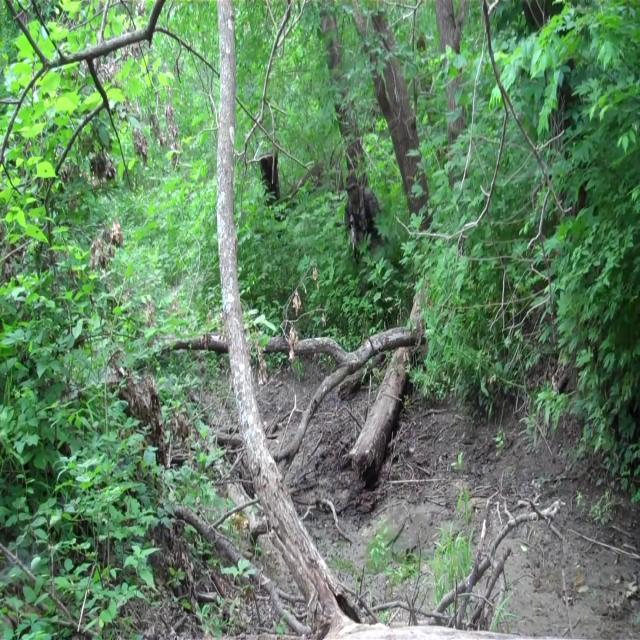MIL_Pax: (342, 167, 384, 269)
